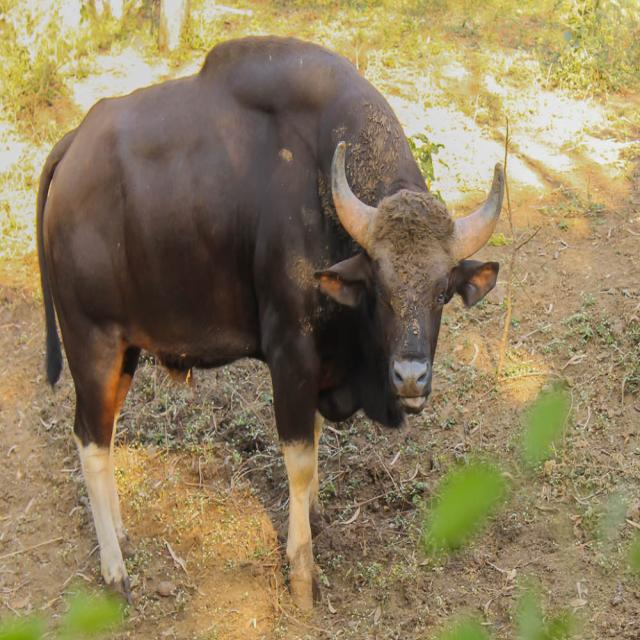cow: (36, 37, 504, 609)
